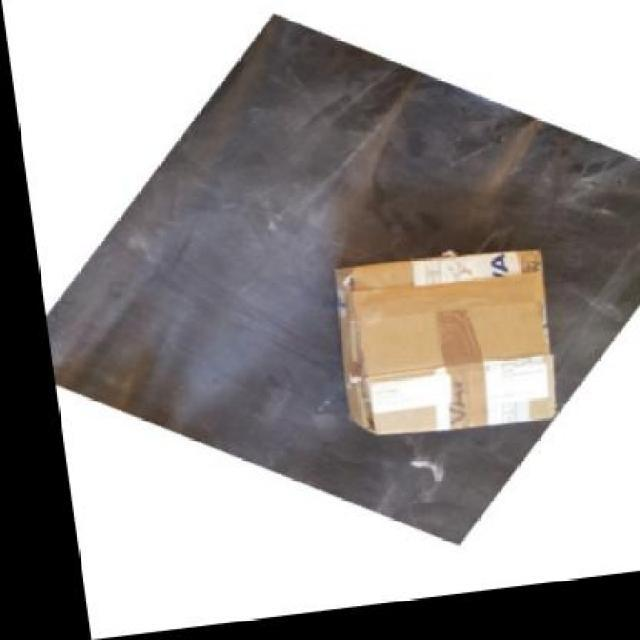box: (324, 255, 546, 448)
